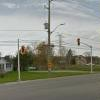Traffic light: (20, 43, 29, 57)
